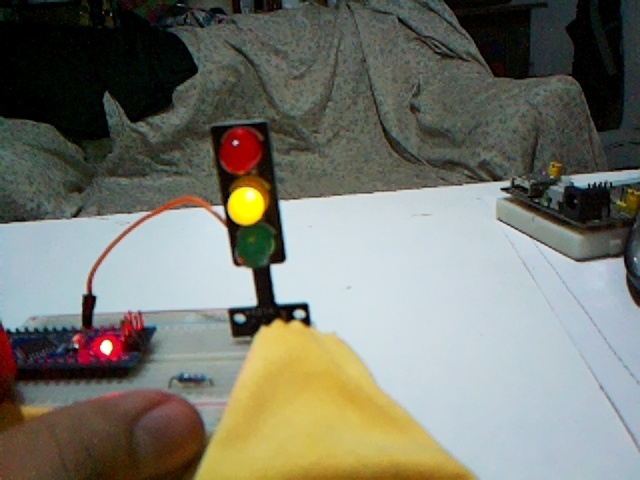traffic_light_yellow: (212, 119, 286, 267)
